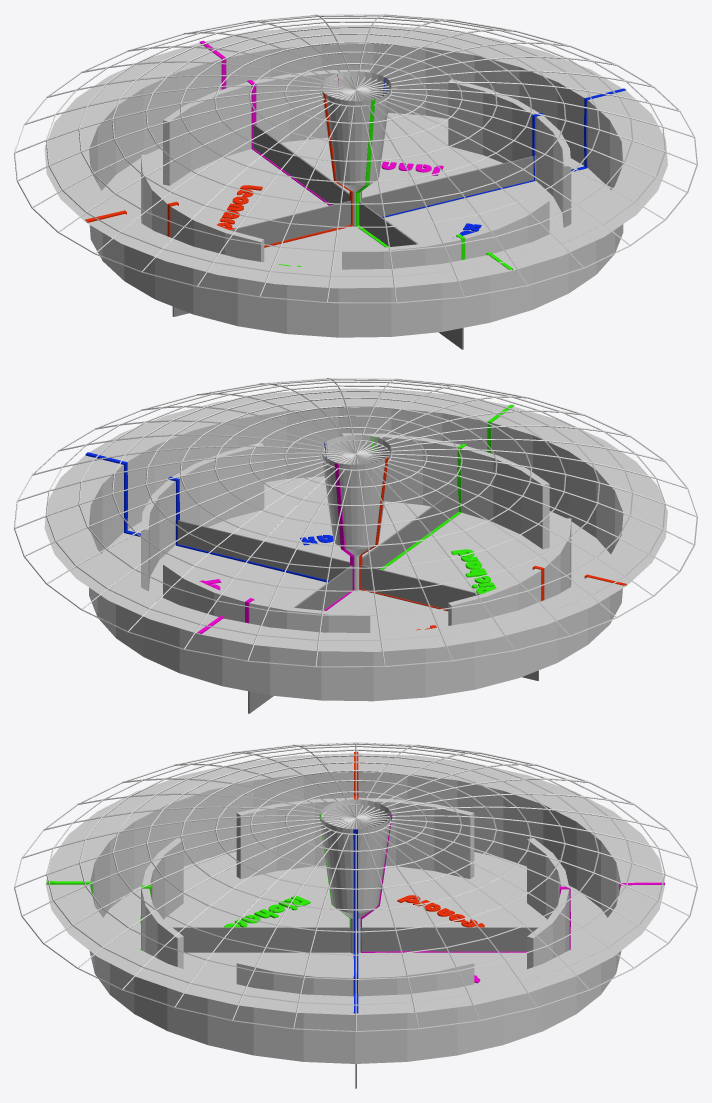
File: showcaseZ.fbx
The picture shows the model from 3 angles, top to bottom: view 1: azimuth 30°, elevation 25°; view 2: azimuth 150°, elevation 25°; view 3: azimuth 270°, elevation 25°; orthographic projection.
Visible parts, largest first — view 1: Raum, Roof, Wall2, Walll1, Border_01, Border_04, Border_02, Border_03, T_Leonard; view 2: Raum, Roof, Wall2, Walll1, Border_02, Border_03, Border_01, Border_04, T_Richard; view 3: Raum, Roof, Walll1, Border_02, Border_03, T_Richard, T_Leonard.
Boxes of the visible parts, bbox=[...] form: Raum: bbox=[44, 25, 667, 337]; Roof: bbox=[14, 14, 697, 303]; Wall2: bbox=[172, 155, 536, 316]; Walll1: bbox=[253, 124, 463, 349]; Border_01: bbox=[85, 93, 352, 247]; Border_04: bbox=[356, 99, 512, 269]; Border_02: bbox=[361, 78, 625, 217]; Border_03: bbox=[199, 40, 339, 205]; T_Leonard: bbox=[217, 185, 262, 229]; Raum: bbox=[44, 388, 667, 701]; Roof: bbox=[14, 378, 697, 667]; Wall2: bbox=[175, 520, 538, 680]; Walll1: bbox=[248, 488, 458, 713]; Border_02: bbox=[85, 442, 329, 582]; Border_03: bbox=[197, 463, 354, 634]; Border_01: bbox=[359, 457, 626, 610]; Border_04: bbox=[371, 404, 514, 569]; T_Richard: bbox=[451, 549, 496, 593]; Raum: bbox=[45, 753, 665, 1063]; Roof: bbox=[14, 742, 697, 1031]; Walll1: bbox=[172, 927, 538, 952]; Border_02: bbox=[353, 829, 358, 1013]; Border_03: bbox=[360, 814, 664, 952]; T_Richard: bbox=[224, 895, 310, 927]; T_Leonard: bbox=[397, 895, 484, 927].
Size of the model in its own units: 1915 by 1915 by 571.
